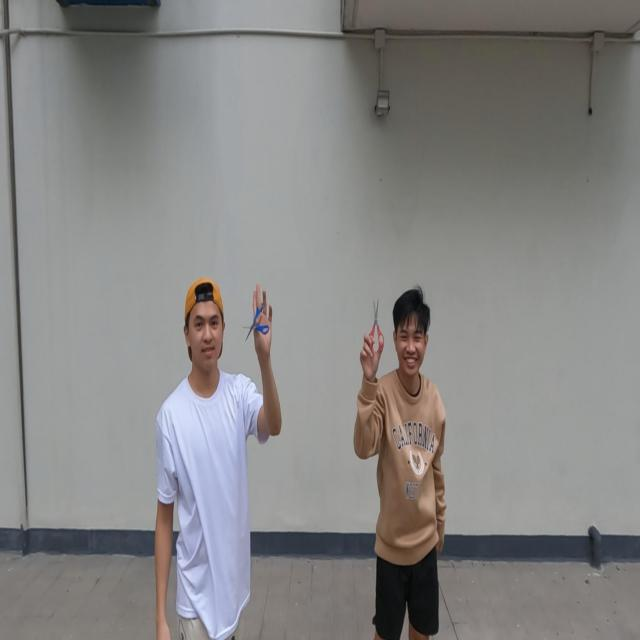scissor: (243, 303, 269, 343), (367, 297, 385, 352)
